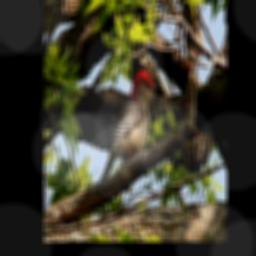Woodpecker: (95, 66, 165, 187)
